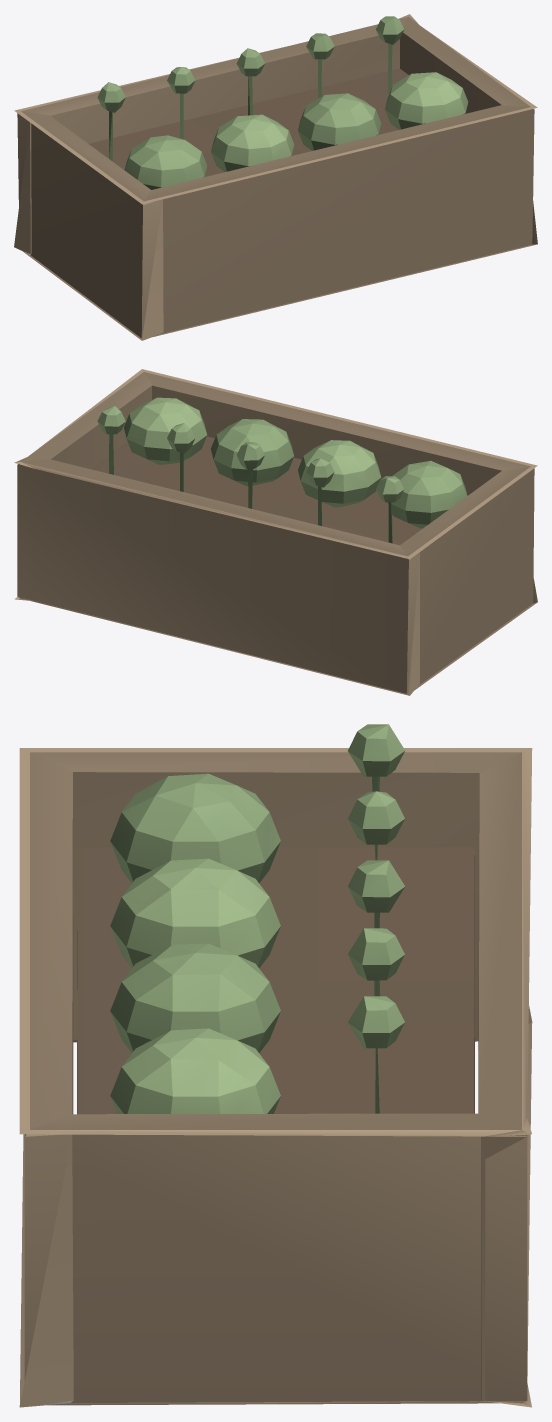
The model's file is planter_box_low.glb.
The picture shows the model from 3 angles, top to bottom: view 1: azimuth 30°, elevation 25°; view 2: azimuth 150°, elevation 25°; view 3: azimuth 270°, elevation 25°; orthographic projection. The views are drawn at different scales.
Bounding box in the file's own units: 0.91 × 0.39 × 0.51.
